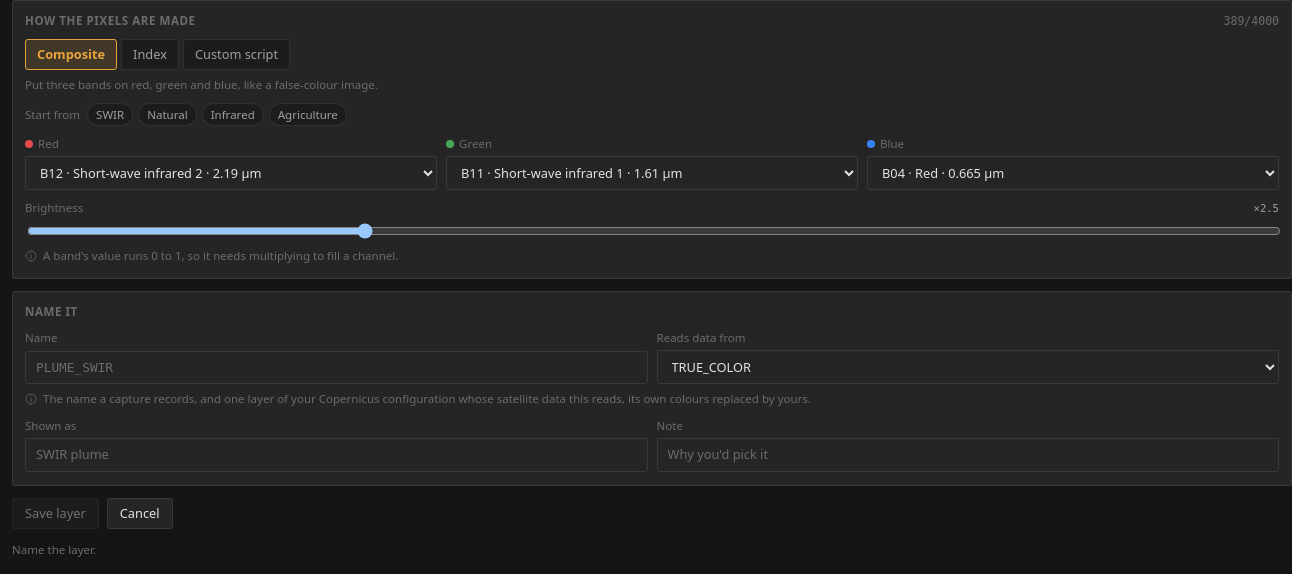
Test: refuses a name the configuration already serves, and says so
Type "SWIR" into the field named "Layer name" at (336, 368), box [25,351,648,384]
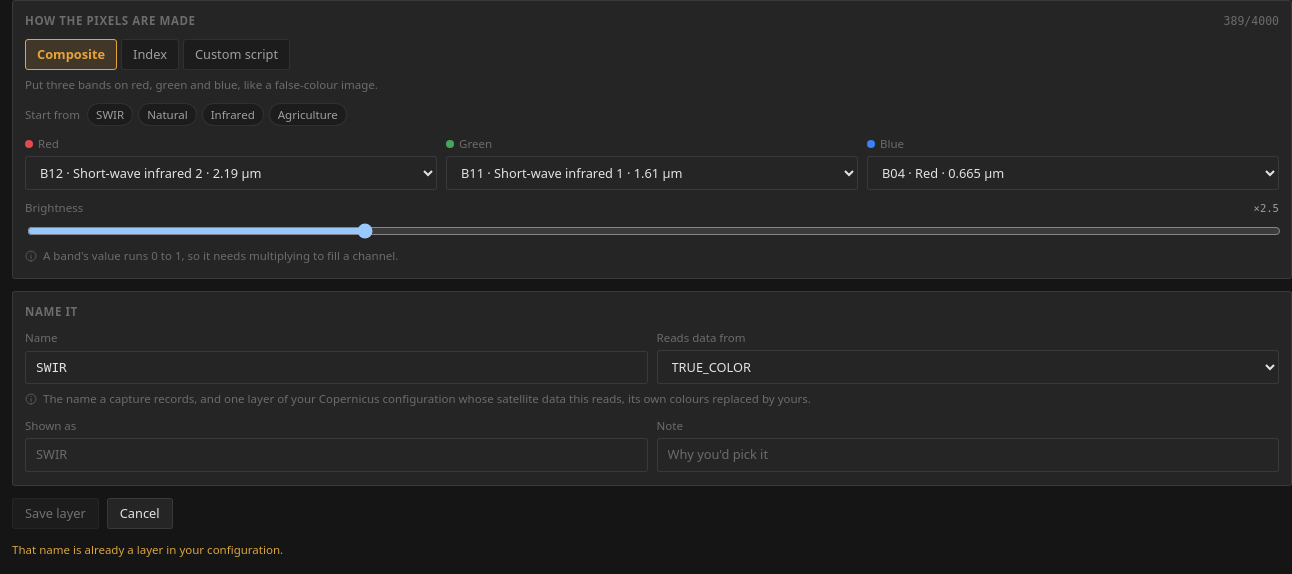
Expected: the button "Save layer" is disabled, [12,498,99,529]
Result: the text "already a layer" is shown at [12,542,283,557]
